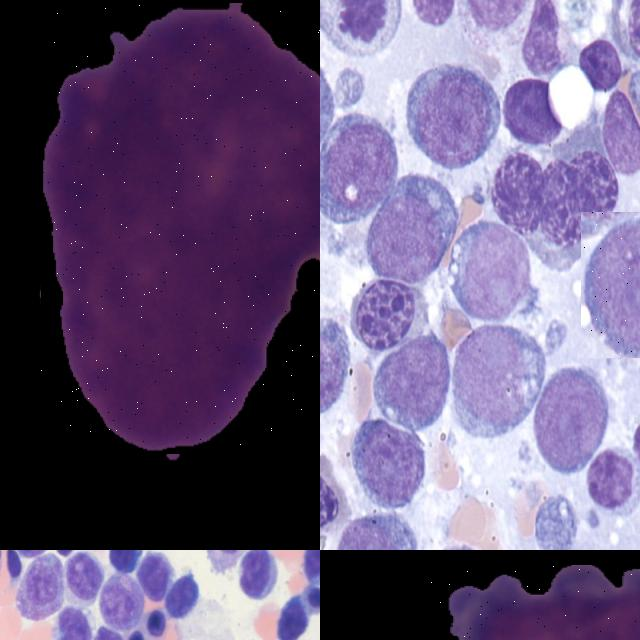ALL Negative Cells: (451, 565, 640, 640), (452, 327, 546, 444), (404, 66, 500, 166), (581, 212, 640, 358), (320, 118, 394, 227), (320, 0, 409, 56)
ALL Positive Cell: (41, 4, 320, 454), (540, 154, 621, 247), (354, 276, 428, 354), (494, 146, 546, 228), (582, 38, 621, 92), (320, 458, 344, 535)
